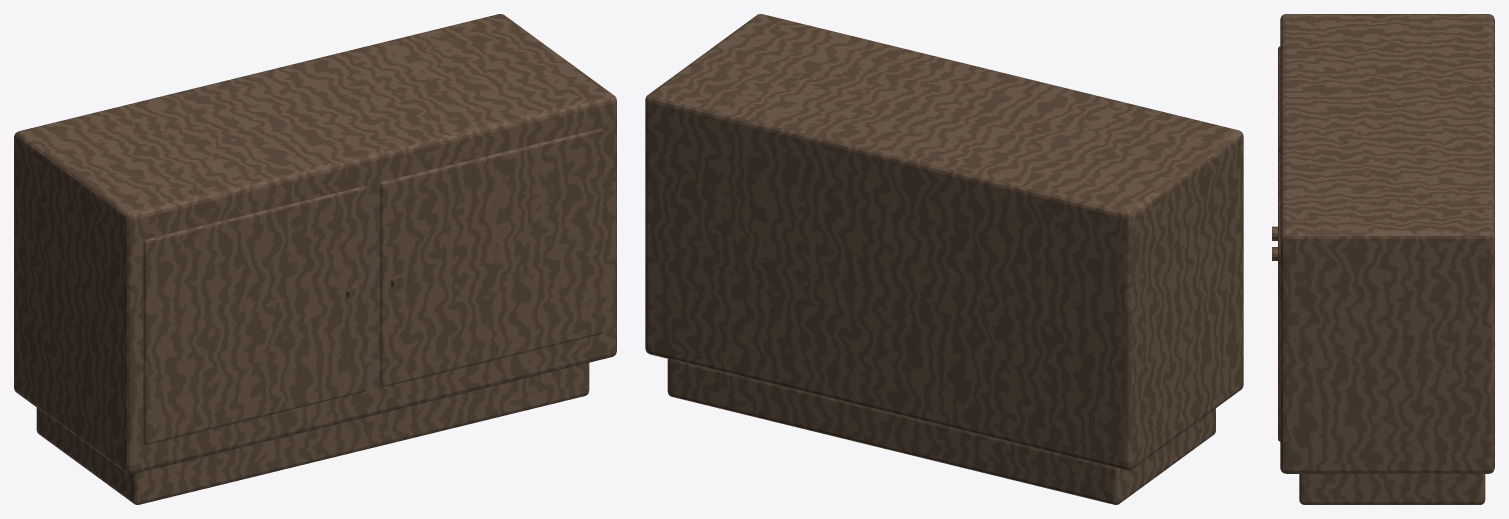
The model's file is FUR_TVCabinet.fbx.
The picture shows the model from 3 angles, left to right: view 1: azimuth 30°, elevation 25°; view 2: azimuth 150°, elevation 25°; view 3: azimuth 270°, elevation 25°; orthographic projection. The views are drawn at different scales.
Visible parts, largest first — view 1: TVCabinet_Body; view 2: TVCabinet_Body; view 3: TVCabinet_Body.
Boxes of the visible parts, <box> form: TVCabinet_Body: <box>14,14,616,504</box>; TVCabinet_Body: <box>645,14,1243,504</box>; TVCabinet_Body: <box>1272,14,1494,504</box>.
Size of the model in its own units: 110 by 65 by 46.7.
